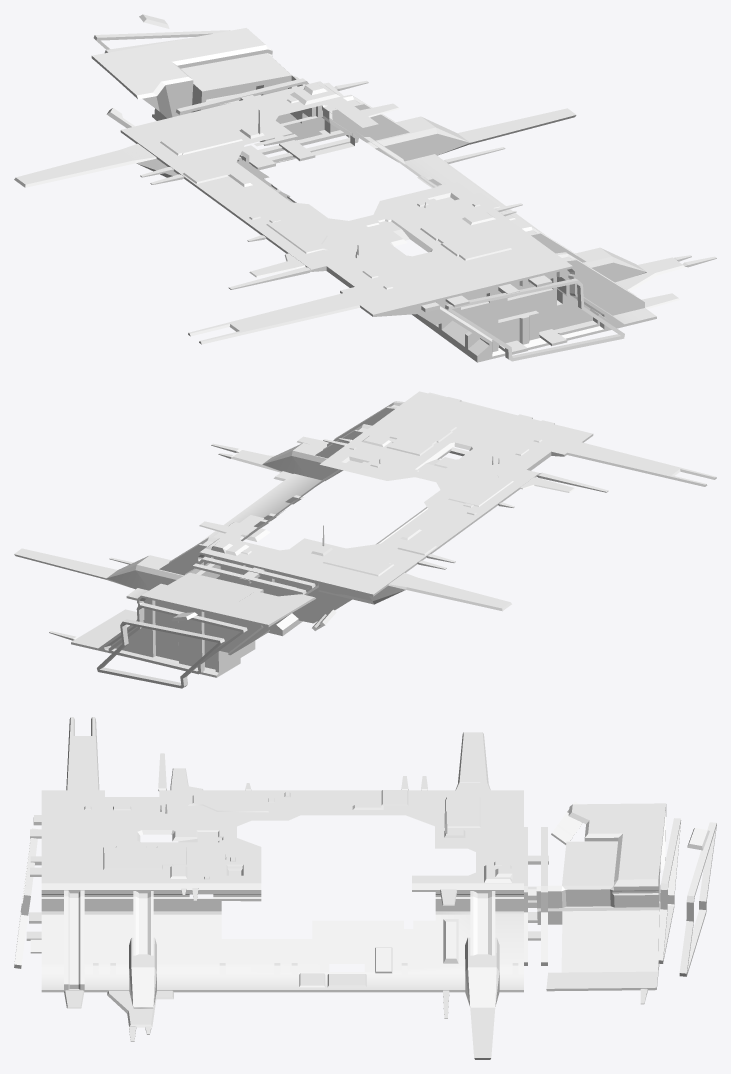
Rendered from duzumi_hq_structure_01_0.glb.
3 views of the same model, one above another, from view 1: azimuth 30°, elevation 25°; view 2: azimuth 150°, elevation 25°; view 3: azimuth 270°, elevation 25° (orthographic). The views are drawn at different scales.
Parts seen in each view (by area): view 1: gate_str_flagship_dock; view 2: gate_str_flagship_dock; view 3: gate_str_flagship_dock.
Part boxes in pixels (x1,y1,x2,y2): gate_str_flagship_dock: (14, 14, 716, 362); gate_str_flagship_dock: (14, 391, 716, 688); gate_str_flagship_dock: (14, 717, 716, 1059).
Size of what is drawn, in the model's own units: 57.55 by 10.18 by 62.56.
1 material, 1 textured.
